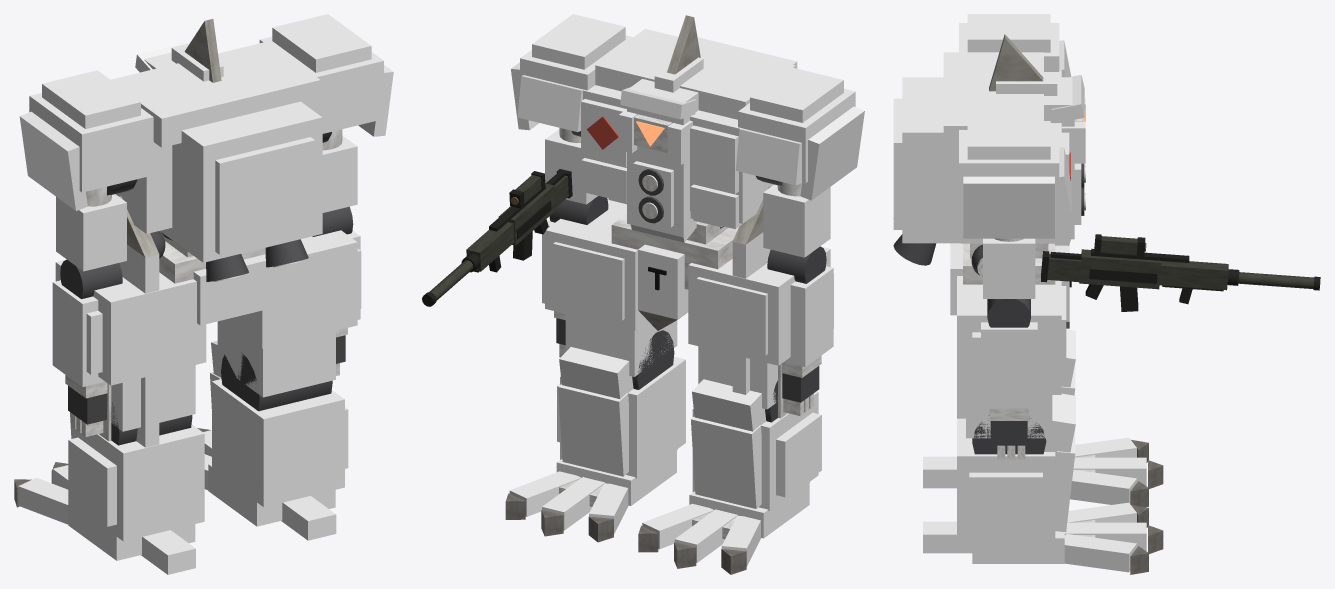
File: og_guide.glb
3 renders of one model, left to right at view 1: azimuth 30°, elevation 25°; view 2: azimuth 150°, elevation 25°; view 3: azimuth 270°, elevation 25°, orthographic. The views are drawn at different scales.
Visible parts, largest first — view 1: ShinR, Yoke, Back, BackPlate, ThighPlateL, ShinL, ThighPlateR, PauldronL, ThighR, UpperArmL, PauldronR, PauldronSideL (+28 smaller); view 2: Yoke, ShinFrontL, ShinFrontR, ShinR, ThighPlateR, ThighPlateL, ThighPlateFaceR, ThighPlateFaceL, UpperArmL, ForearmL, PauldronSideL, PauldronTopL (+49 smaller); view 3: Back, PauldronSideR, Yoke, ThighPlateR, ForearmR, ShinSideR, ShinR, PauldronTopR, UpperArmR, PauldronTopL, PauldronR, FootR (+36 smaller).
Boxes of the visible parts, <box> form: ShinR: <box>212,379,344,507</box>; Yoke: <box>111,41,320,147</box>; Back: <box>173,101,322,262</box>; BackPlate: <box>215,137,315,254</box>; ThighPlateL: <box>55,260,206,385</box>; ShinL: <box>71,424,204,541</box>; ThighPlateR: <box>223,230,357,348</box>; PauldronL: <box>29,93,153,192</box>; ThighR: <box>217,320,335,397</box>; UpperArmL: <box>56,194,126,271</box>; PauldronR: <box>259,36,383,133</box>; PauldronSideL: <box>19,111,87,210</box>; Yoke: <box>595,29,795,119</box>; ShinFrontL: <box>691,416,761,508</box>; ShinFrontR: <box>558,384,628,476</box>; ShinR: <box>560,356,685,478</box>; ThighPlateR: <box>545,198,647,330</box>; ThighPlateL: <box>688,246,830,365</box>; ThighPlateFaceR: <box>553,242,624,320</box>; ThighPlateFaceL: <box>696,277,767,355</box>; UpperArmL: <box>763,184,830,257</box>; ForearmL: <box>784,266,833,367</box>; PauldronSideL: <box>800,106,864,200</box>; PauldronTopL: <box>750,67,843,122</box>; Back: <box>902,77,958,243</box>; PauldronSideR: <box>963,176,1054,238</box>; Yoke: <box>943,52,1043,153</box>; ThighPlateR: <box>957,276,1061,394</box>; ForearmR: <box>981,322,1037,408</box>; ShinSideR: <box>969,472,1042,532</box>; ShinR: <box>957,418,1055,539</box>; PauldronTopR: <box>967,121,1050,159</box>; UpperArmR: <box>983,238,1035,298</box>; PauldronTopL: <box>967,14,1050,52</box>; PauldronR: <box>959,130,1059,218</box>; FootR: <box>972,531,1064,563</box>.
Size of the model in its own units: 6.97 by 10.34 by 8.32.
12 materials, 4 textured.
